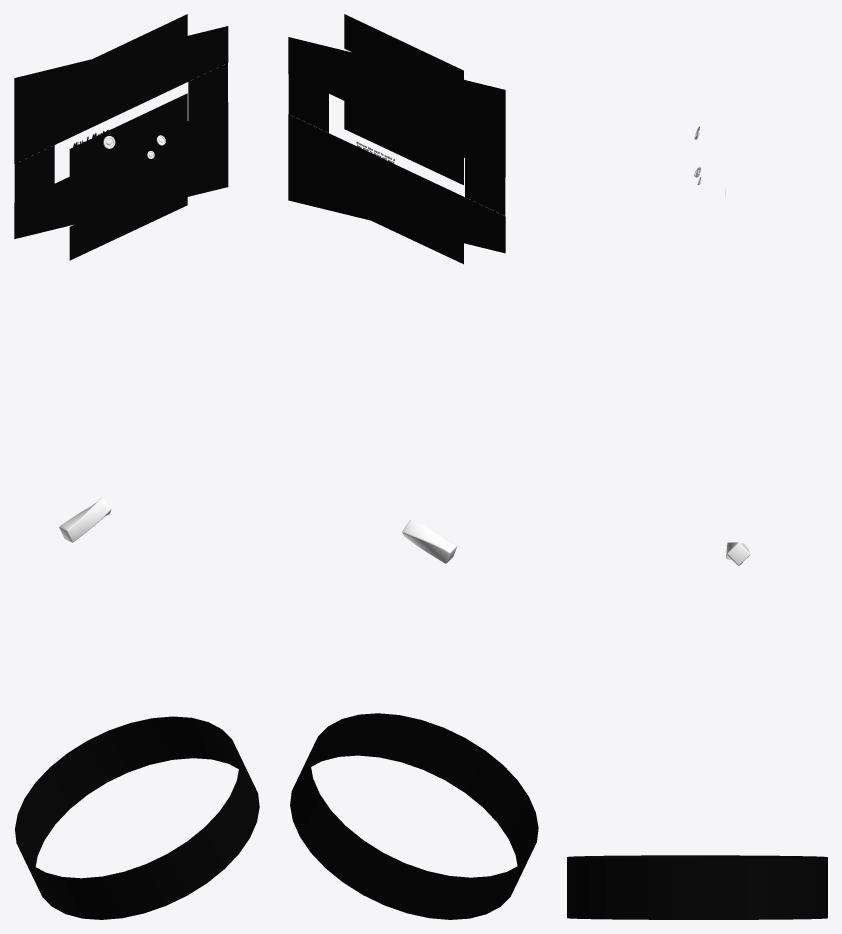
The model's file is section_2.glb.
The picture shows the model from 3 angles, left to right: view 1: azimuth 30°, elevation 25°; view 2: azimuth 150°, elevation 25°; view 3: azimuth 270°, elevation 25°; orthographic projection. The views are drawn at different scales.
Parts seen in each view (by area): view 1: Flexible, Background, TitleContainer; view 2: Flexible, Background, TitleContainer; view 3: Background.
Boxes of the visible parts, x1,y1,x2,y2 form: Flexible: [14, 14, 228, 260]; Background: [15, 716, 259, 919]; TitleContainer: [59, 497, 111, 542]; Flexible: [288, 14, 505, 264]; Background: [290, 713, 538, 919]; TitleContainer: [402, 519, 457, 563]; Background: [567, 855, 827, 919].
Size of the model in its own units: 25.26 by 95.97 by 24.59.
Materials: 7 (3 with a texture image).
